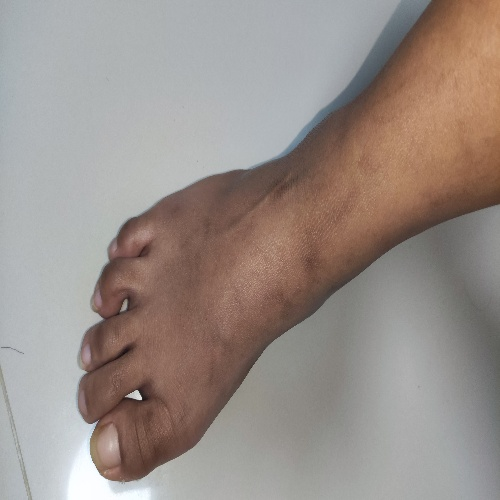3: (90, 395, 180, 481)
Top_Foot: (74, 111, 500, 484)
